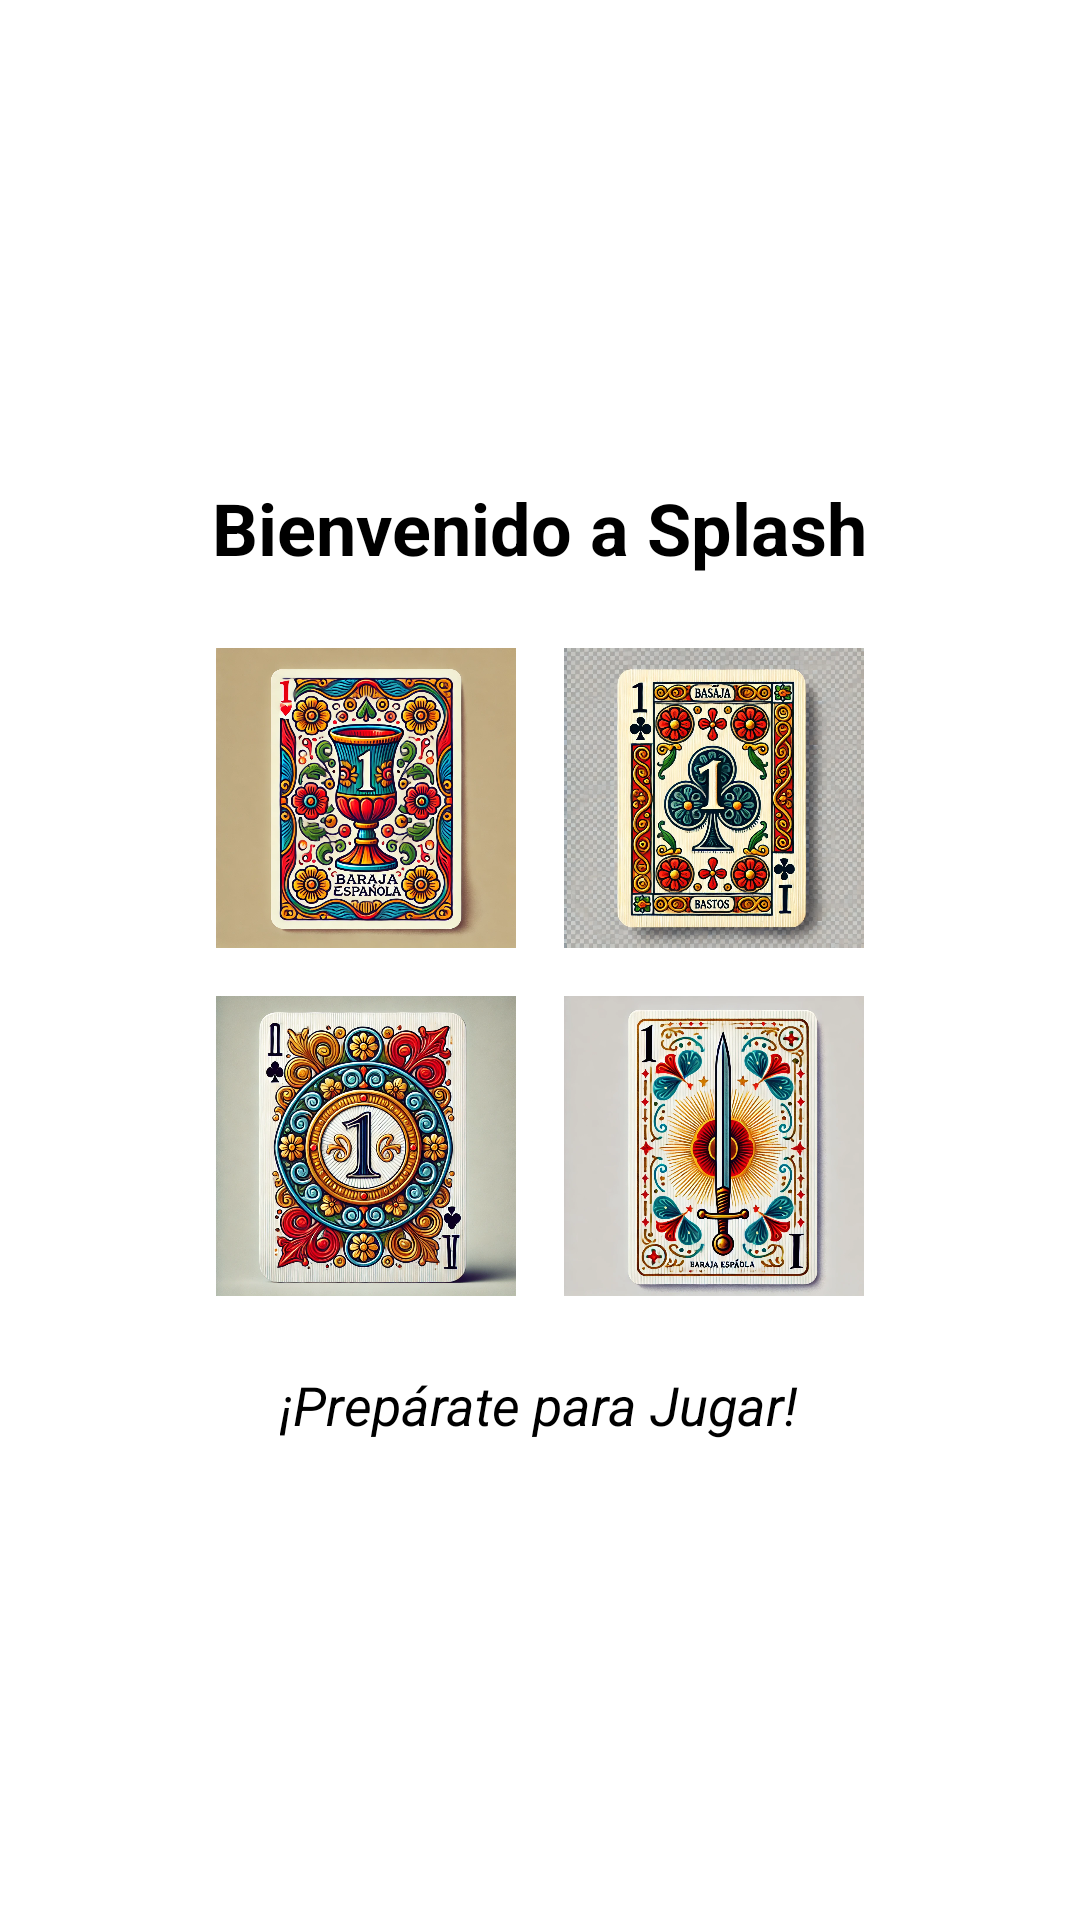

Screen size 1080x1920. Icon name, then its box in pixels as (x1,y1,x2,y2):
card golden: (216,996,516,1296)
card swords: (564,996,864,1296)
